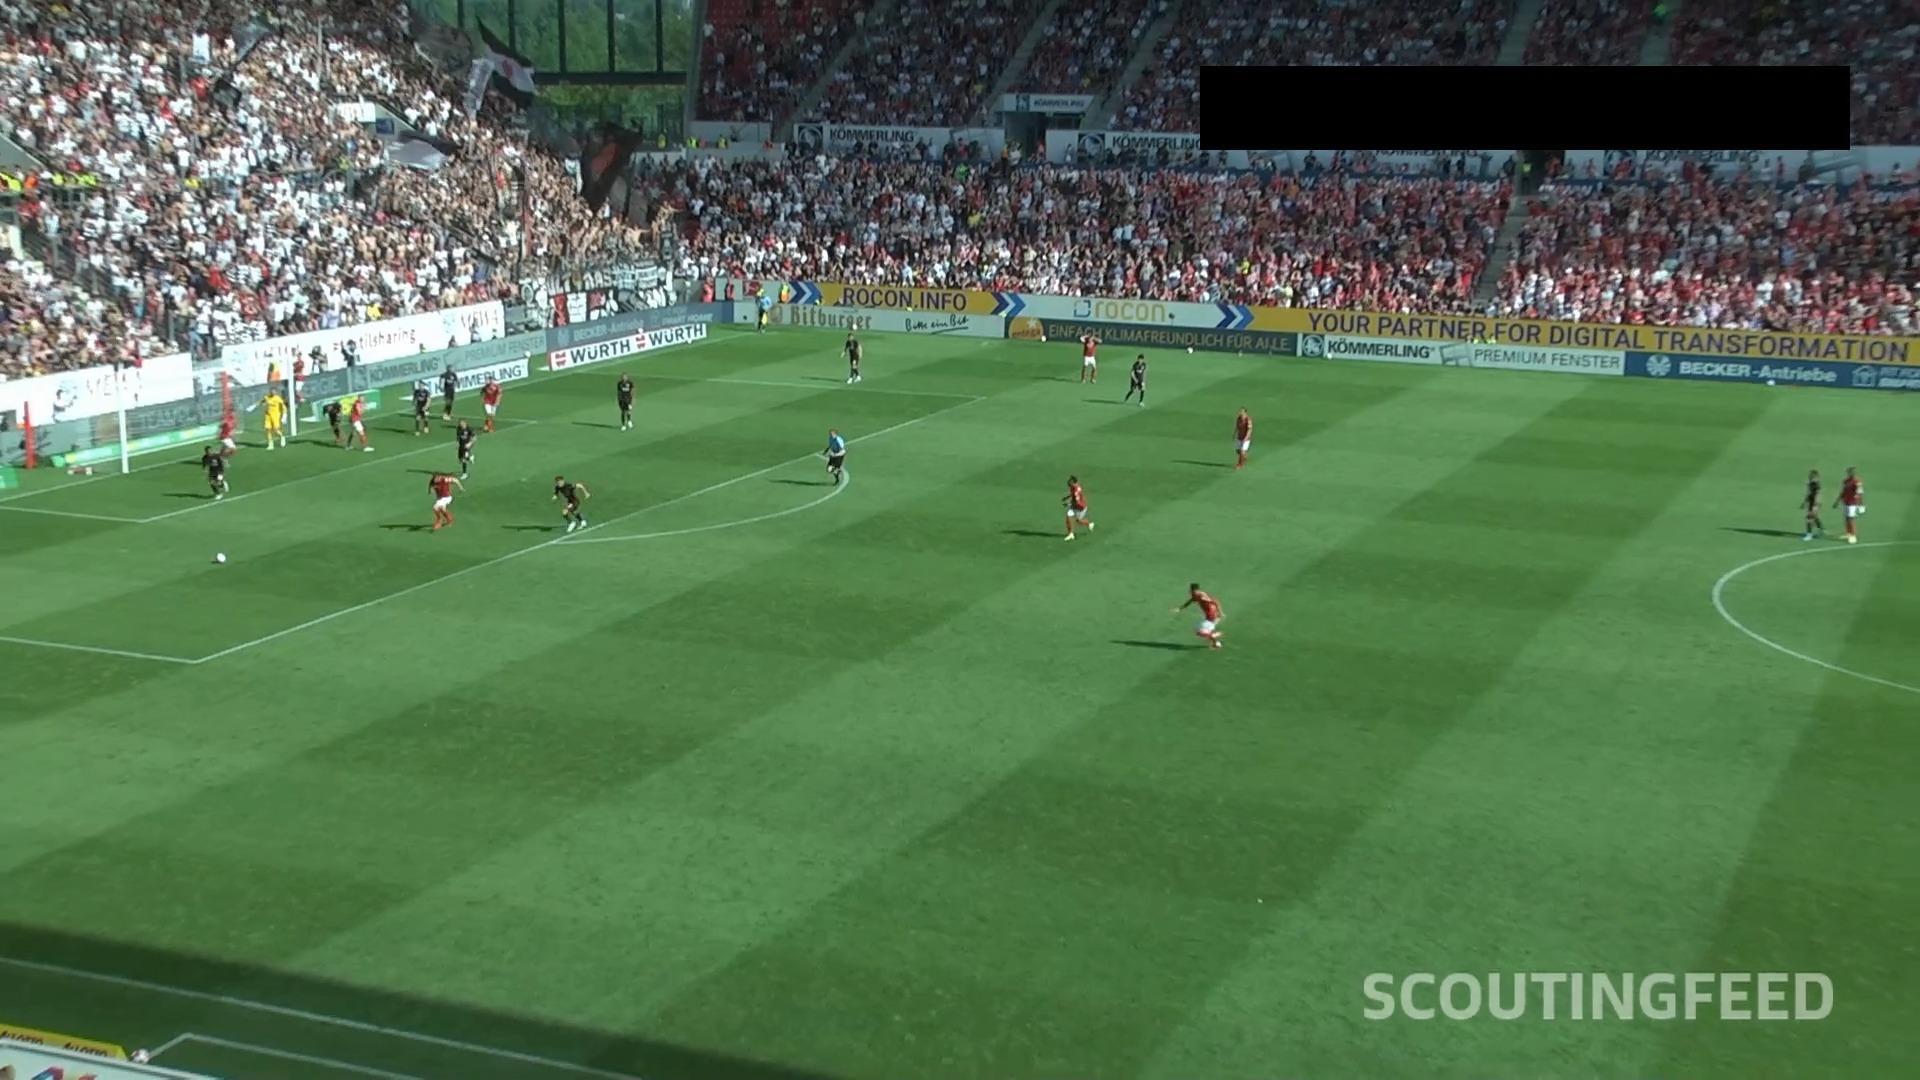ball: (215, 551, 225, 562)
